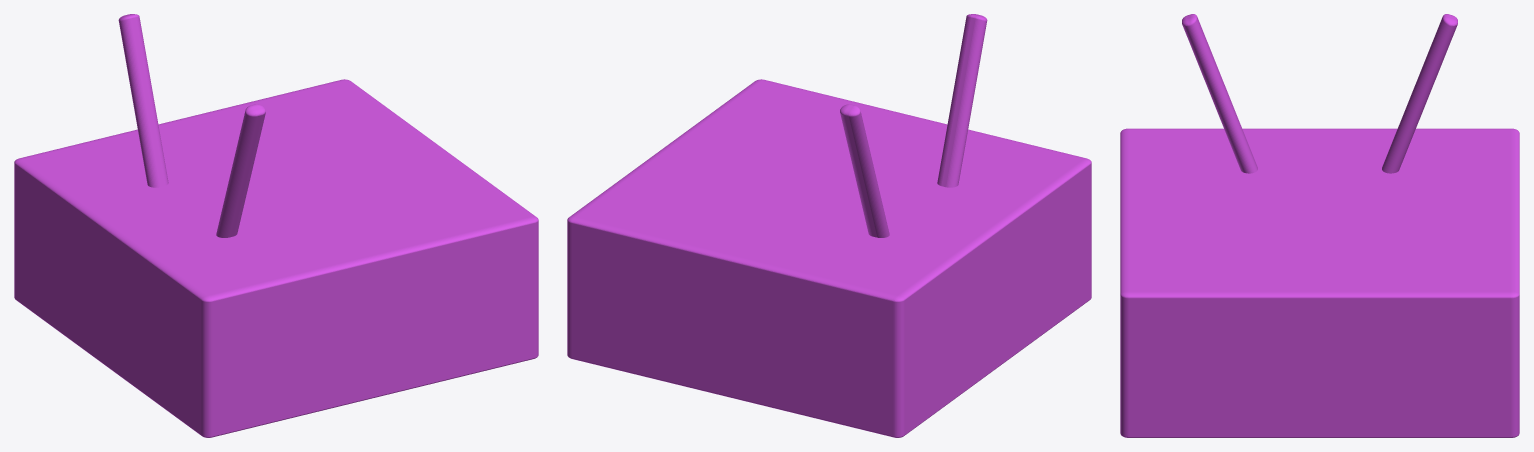
Rendered from wifirouter2.fbx.
3 renders of one model, left to right at view 1: azimuth 30°, elevation 25°; view 2: azimuth 150°, elevation 25°; view 3: azimuth 270°, elevation 25°, orthographic. The views are drawn at different scales.
Visible parts, largest first — view 1: Cube; view 2: Cube; view 3: Cube.
Part boxes in pixels (x1,y1,x2,y2): Cube: (14,14,538,437); Cube: (567,14,1091,437); Cube: (1120,14,1519,437).
Size of the model in its own units: 1 by 1 by 0.8217.
